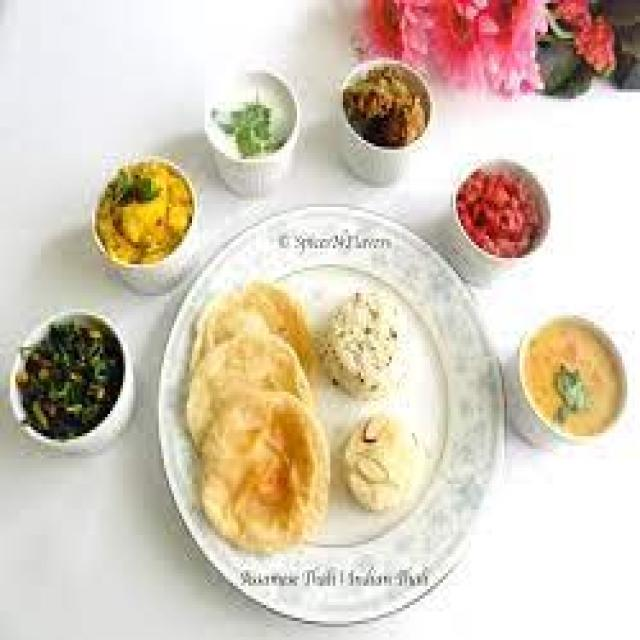papad: (179, 292, 340, 540)
pickle: (456, 157, 550, 264)
veg-fry: (96, 150, 199, 274)
